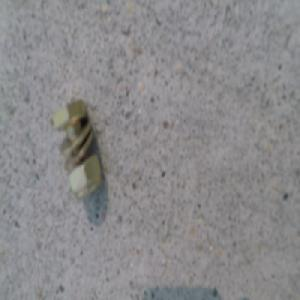BoltNutSet: (54, 97, 102, 198)
